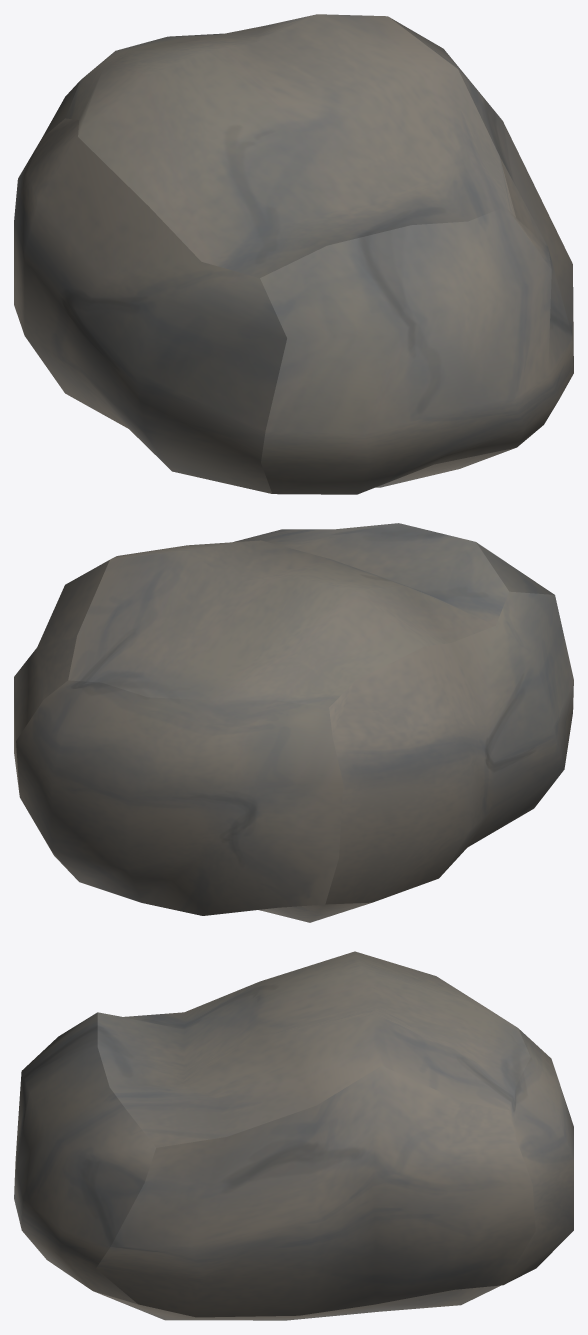
The model's file is Rock3.fbx.
3 renders of one model, top to bottom at view 1: azimuth 30°, elevation 25°; view 2: azimuth 150°, elevation 25°; view 3: azimuth 270°, elevation 25°, orthographic. The views are drawn at different scales.
Parts seen in each view (by area): view 1: pCube1; view 2: pCube1; view 3: pCube1.
Boxes of the visible parts, x1,y1,x2,y2 form: pCube1: [14, 14, 573, 494]; pCube1: [14, 523, 573, 922]; pCube1: [14, 951, 573, 1320].
Size of the model in its own units: 0.0573 by 0.0409 by 0.0713.
Materials: 1 (1 with a texture image).
